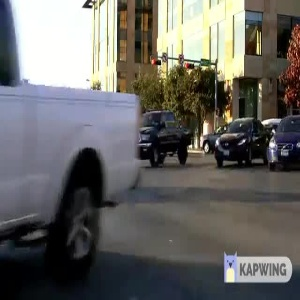car: (211, 110, 271, 164), (264, 115, 300, 172)
